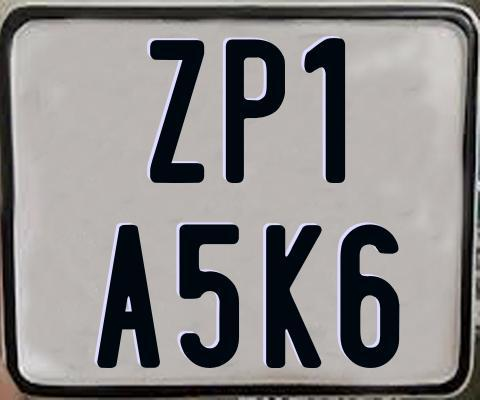1: (303, 38, 349, 185)
5: (177, 224, 237, 373)
6: (339, 224, 404, 374)
A: (97, 222, 160, 367)
K: (266, 224, 323, 368)
P: (225, 38, 290, 182)
Z: (150, 37, 210, 181)
